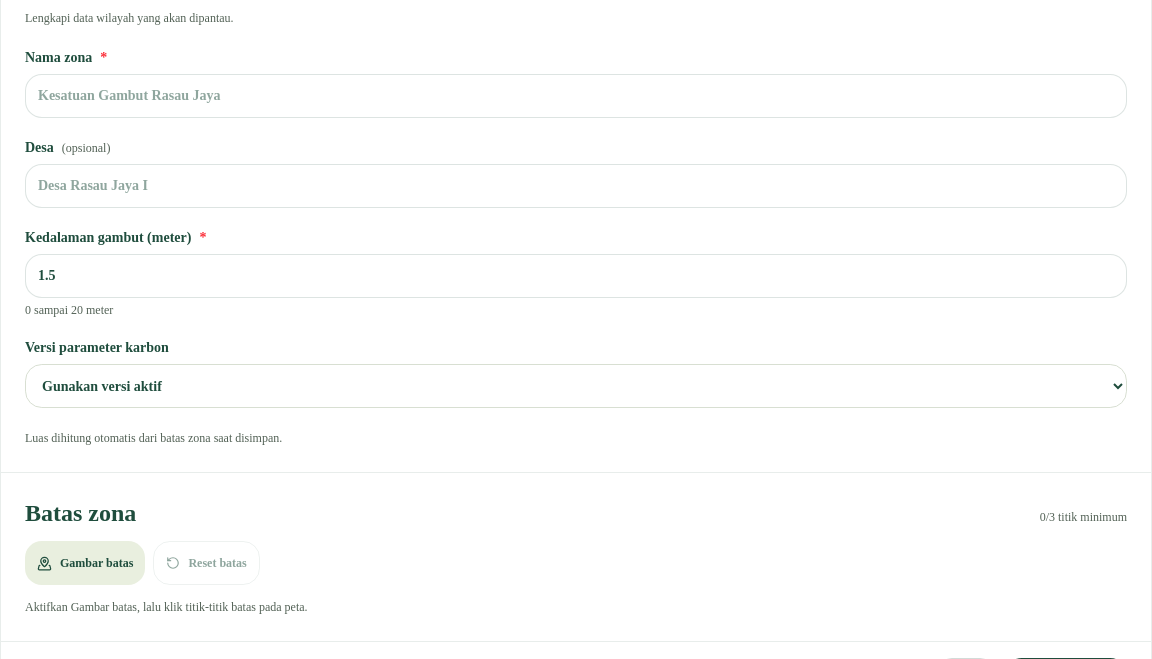
Test: retains the first two drawing clicks and undoes points before a polygon exists
(page scrolled)
Step 1. Click the button "Gambar batas" → x=85, y=563, box [25,541,146,585]
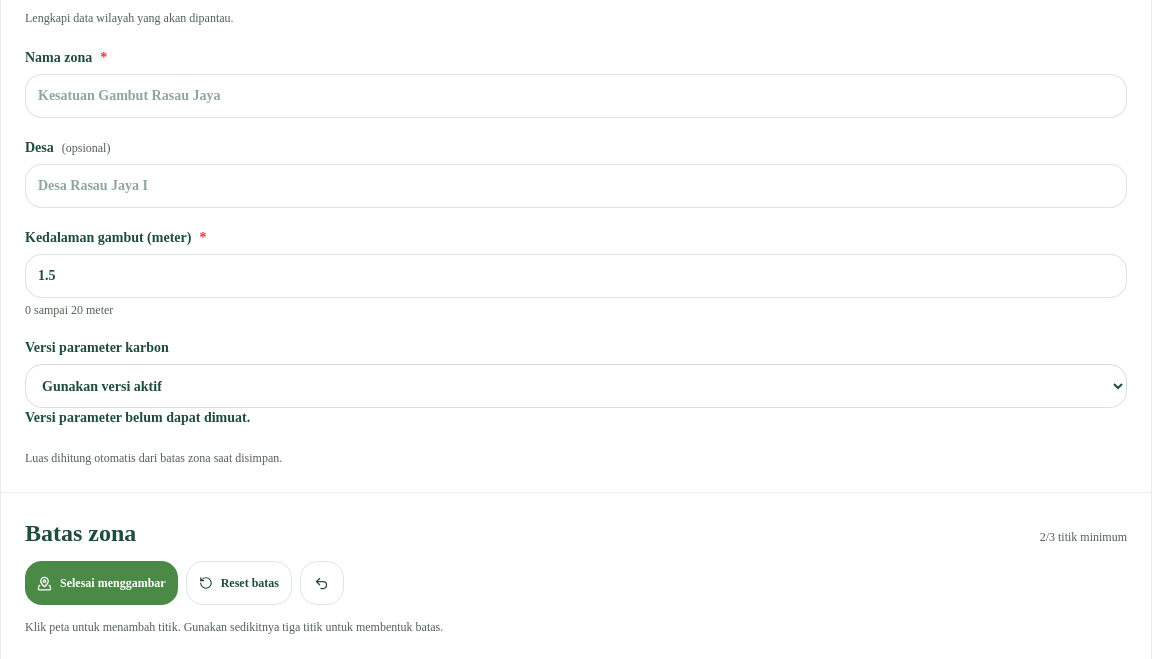
Now the text "2/3 titik minimum" is shown, box [1040,529,1127,545]
Step 2. Click the button named "Batalkan titik terakhir" → x=322, y=583, box [300,561,344,605]
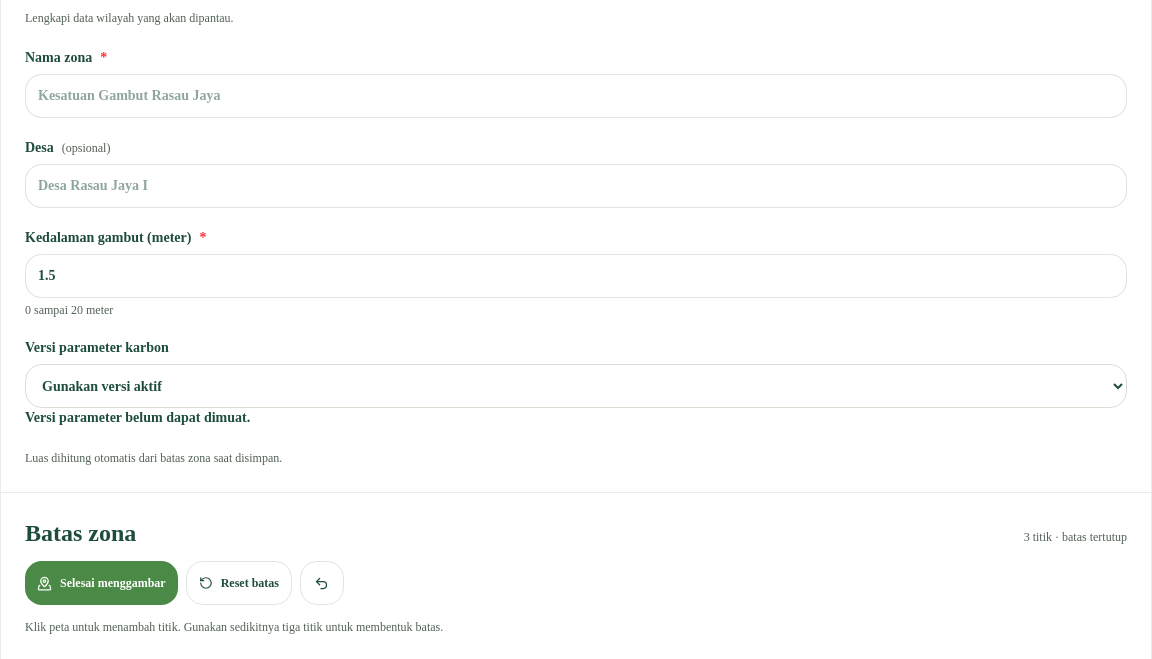
Now the text "3 titik · batas tertutup" is shown, box [1024,529,1127,545]
Step 3. Click the button "Reset batas" → x=239, y=583, box [186,561,292,605]
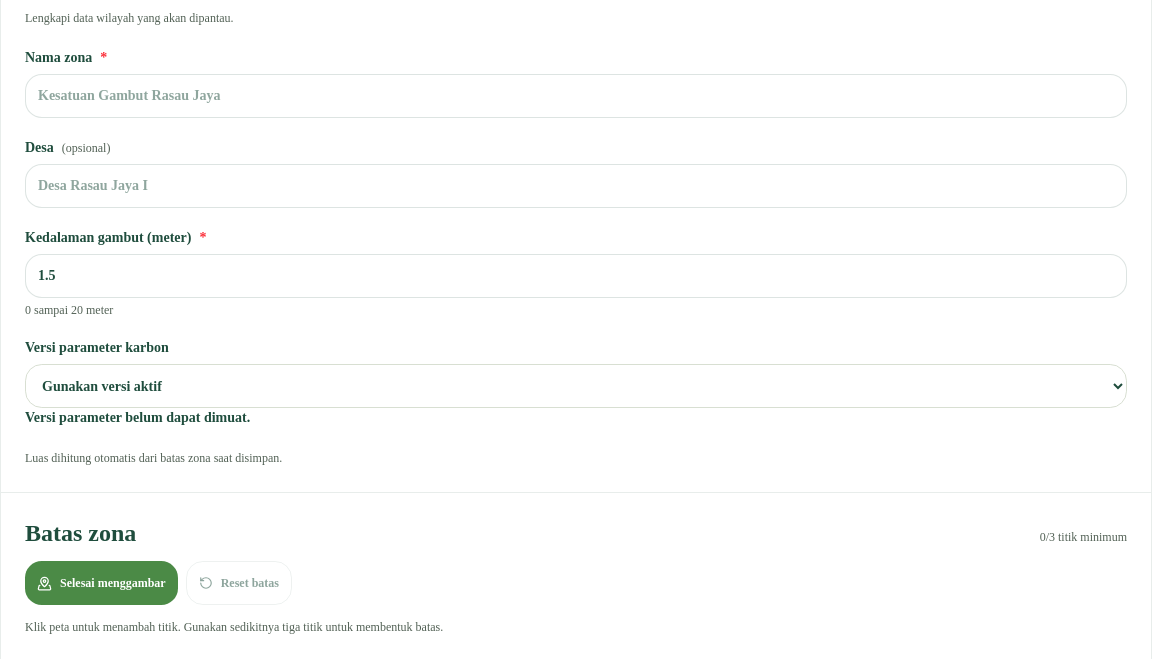
Now the text "0/3 titik minimum" is shown, box [1040,529,1127,545]
